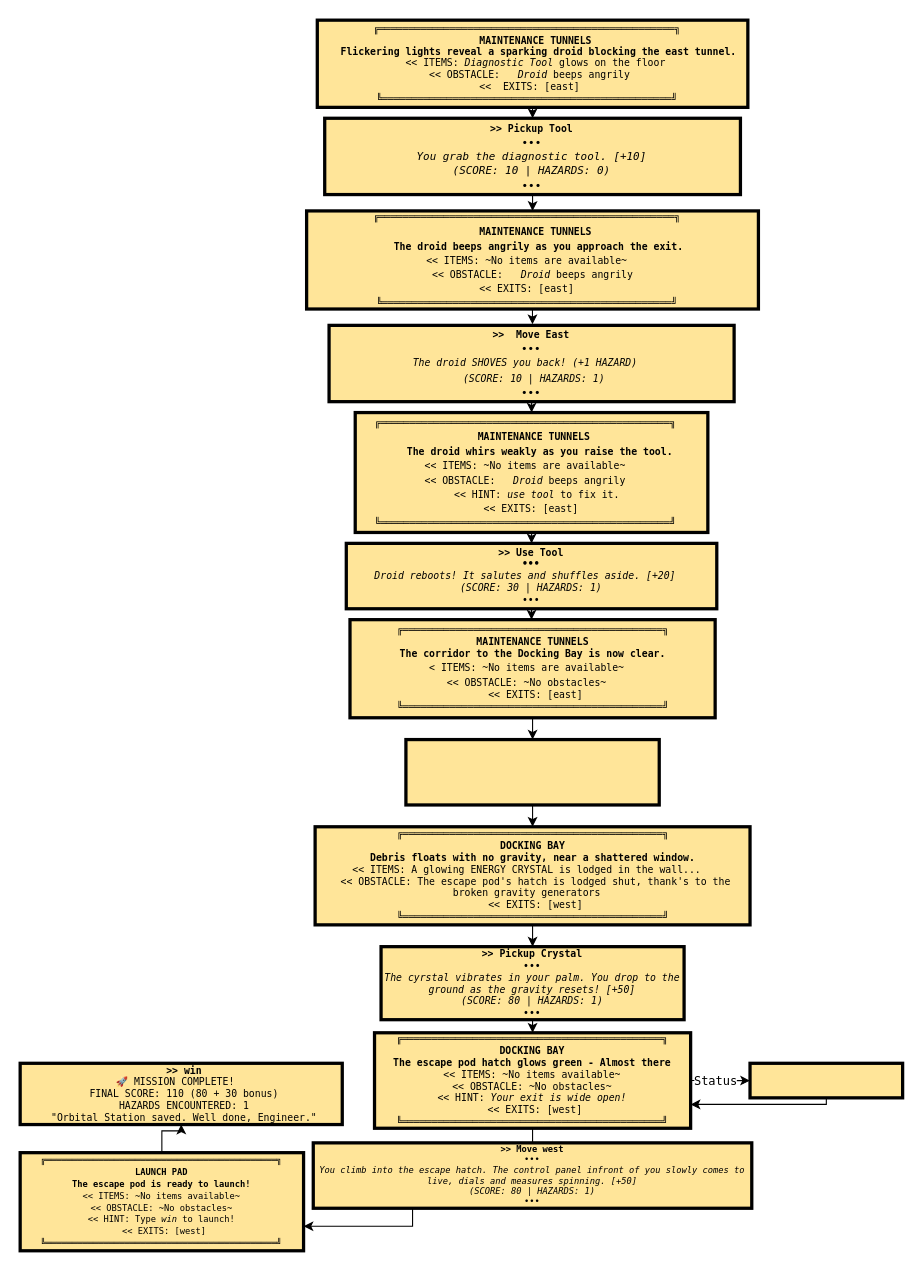
Image size: 923x1277. Some labels were removed from this diagram. The centre of each missing label's shape, as x and y in pixels:
>> Move East ••• You enter the DOCKING BAY. (SCORE: 30 | HAZARDS: 1) •••: (x=532, y=771)
••• (SCORE: 80 | HAZARDS: 1) •••: (x=826, y=1080)
